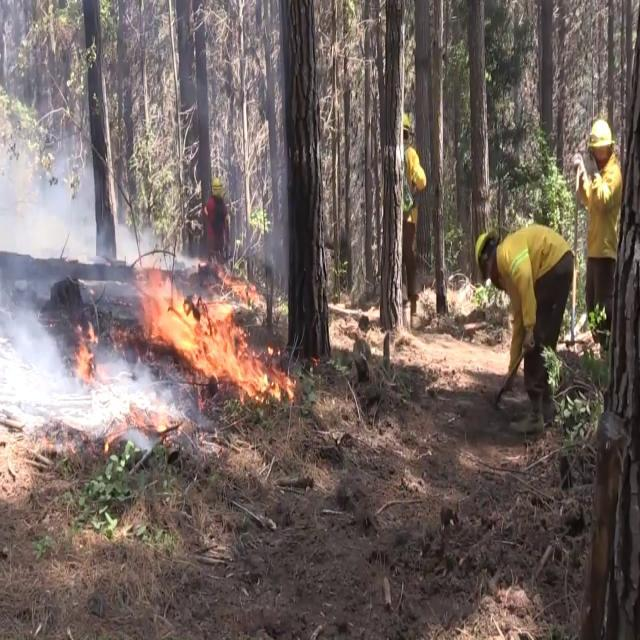Fire: (134, 263, 300, 403), (100, 412, 176, 452), (214, 264, 261, 308), (70, 341, 94, 386)
